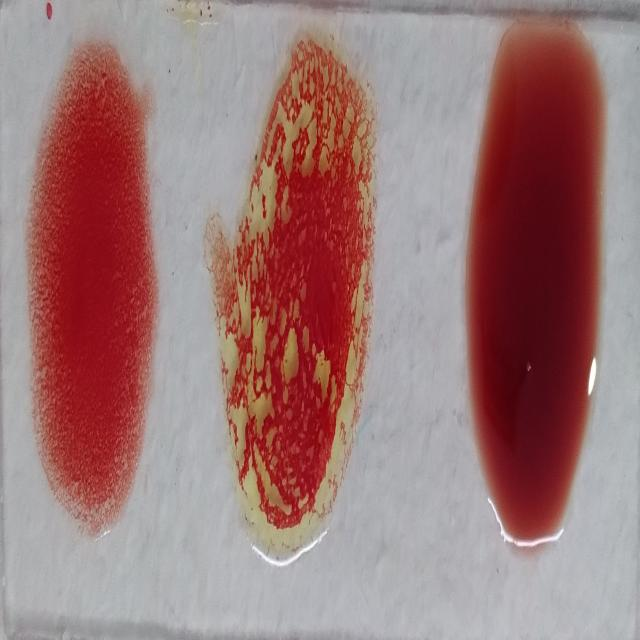B: (222, 35, 373, 568)
D: (25, 34, 152, 536)
